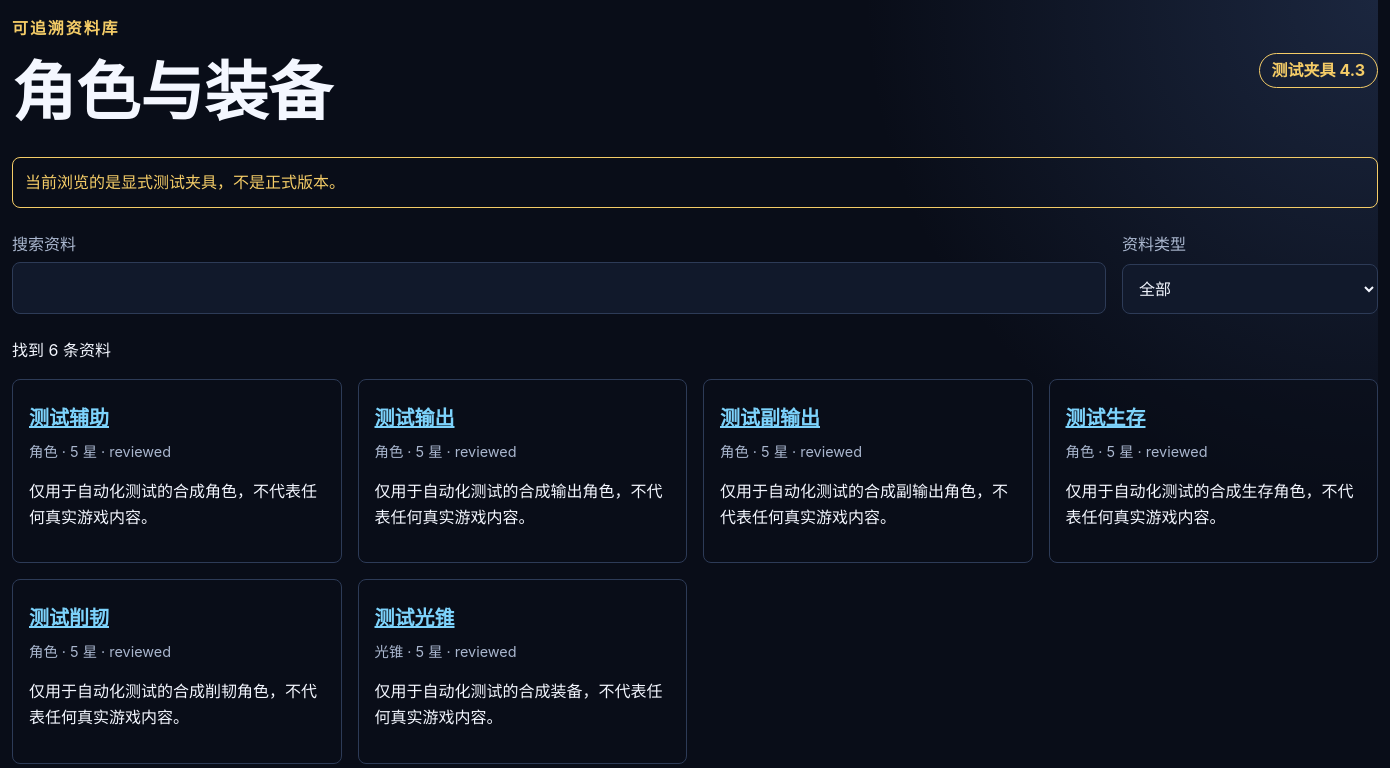
Test: supports keyboard filter navigation and equipment detail disclosure
This screenshot has width=1390, height=768.
Select "光锥" in the dropdown labelled "资料类型": x=1250, y=289 [1122, 264, 1378, 314]
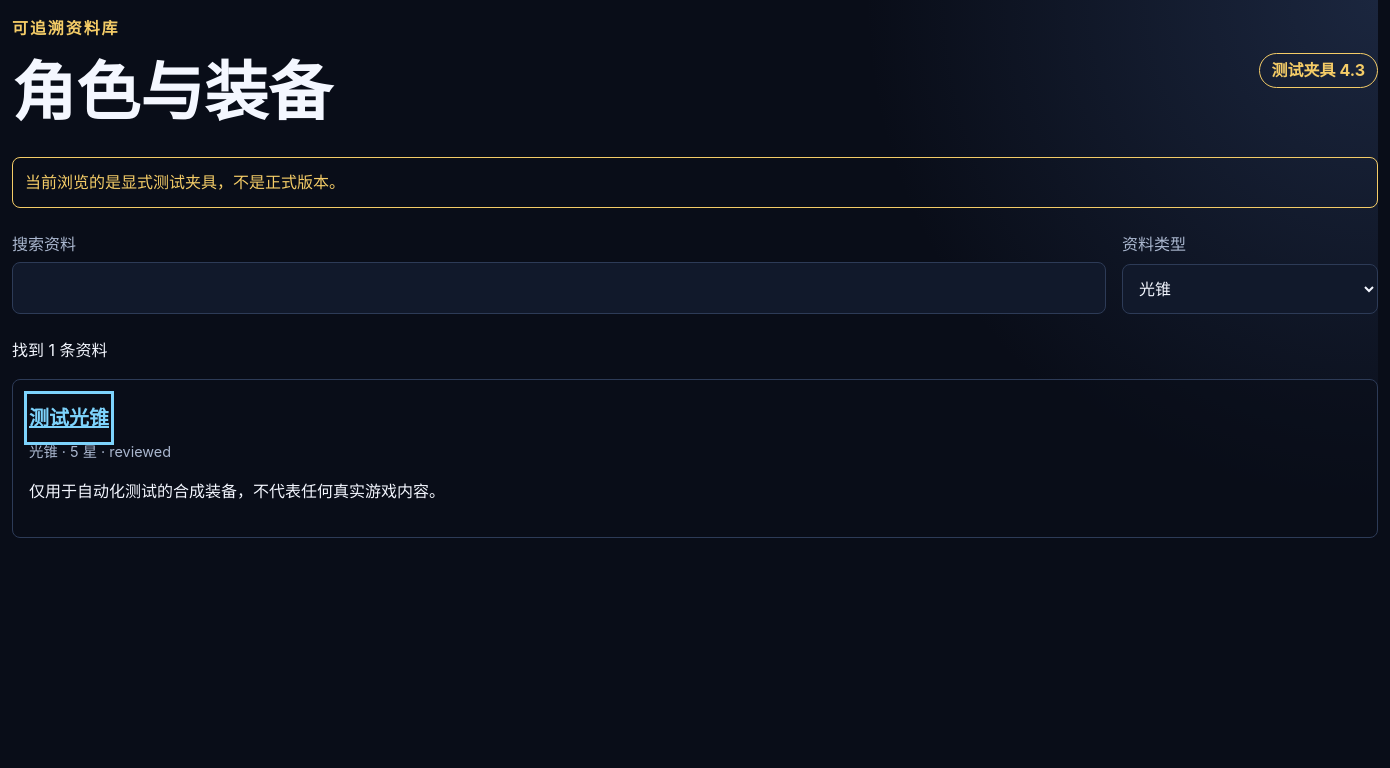
Press Enter
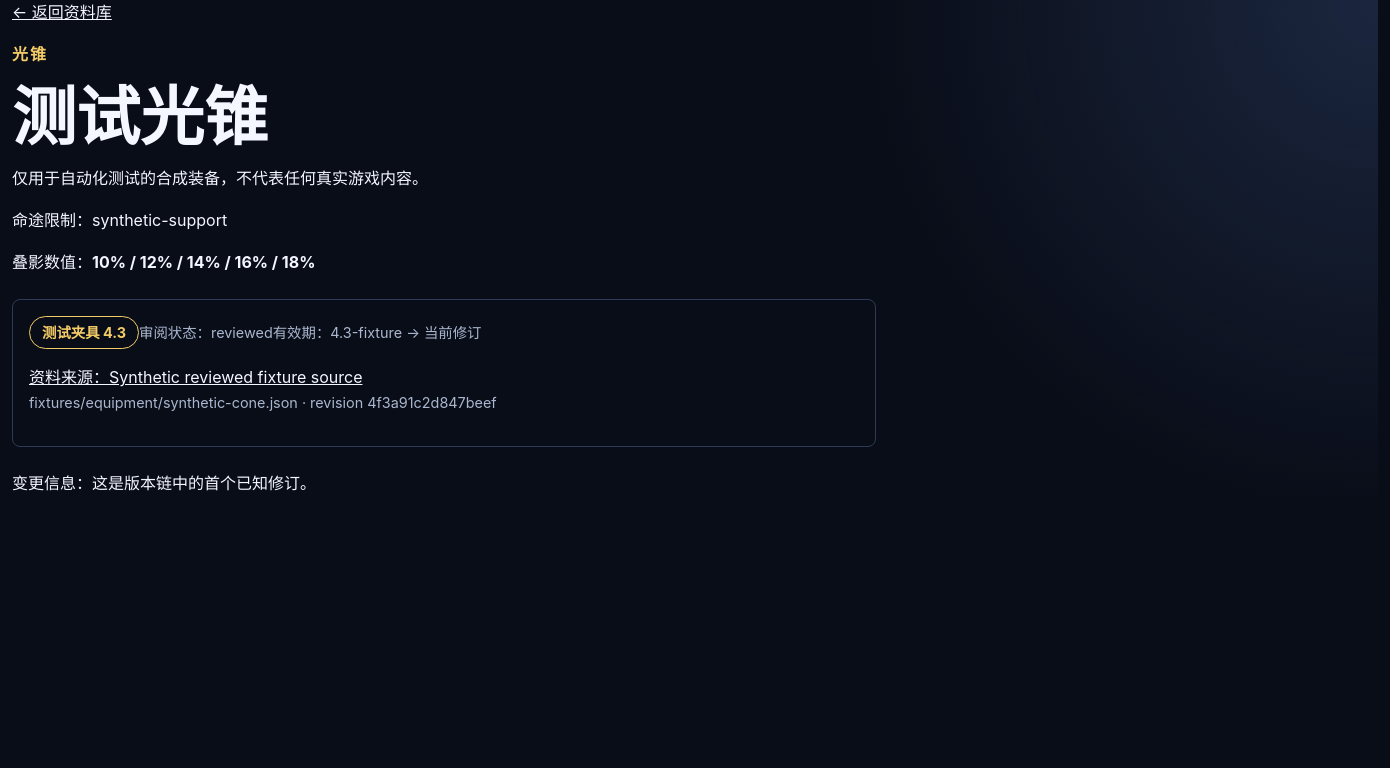
Expected: the heading "测试光锥" is shown, [12, 78, 268, 155]
Now the text "叠影数值：10% / 12% / 14% / 16% / 18%" is shown, box [12, 252, 315, 272]
Now the text "10% / 12% / 14% / 16% / 18%" is shown, box [92, 252, 315, 272]
